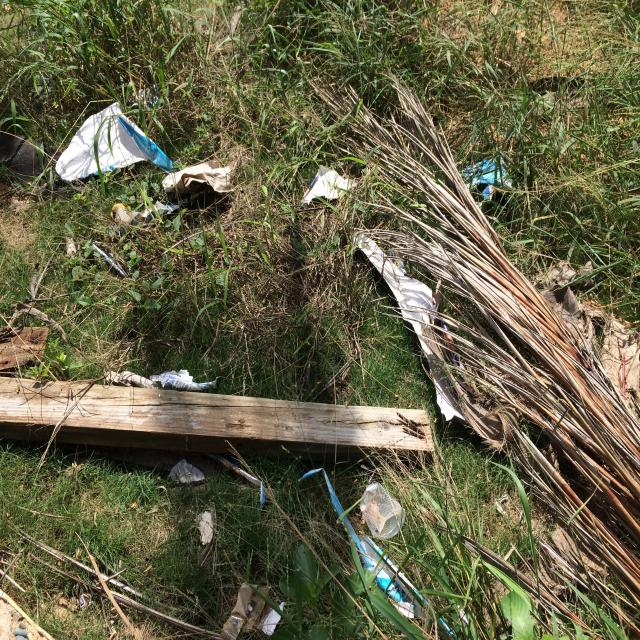litter: (1, 368, 442, 468), (339, 204, 469, 372), (45, 103, 181, 191), (161, 148, 248, 225), (214, 571, 308, 635), (288, 149, 368, 215), (351, 468, 417, 548), (451, 149, 524, 216), (191, 495, 228, 543)
